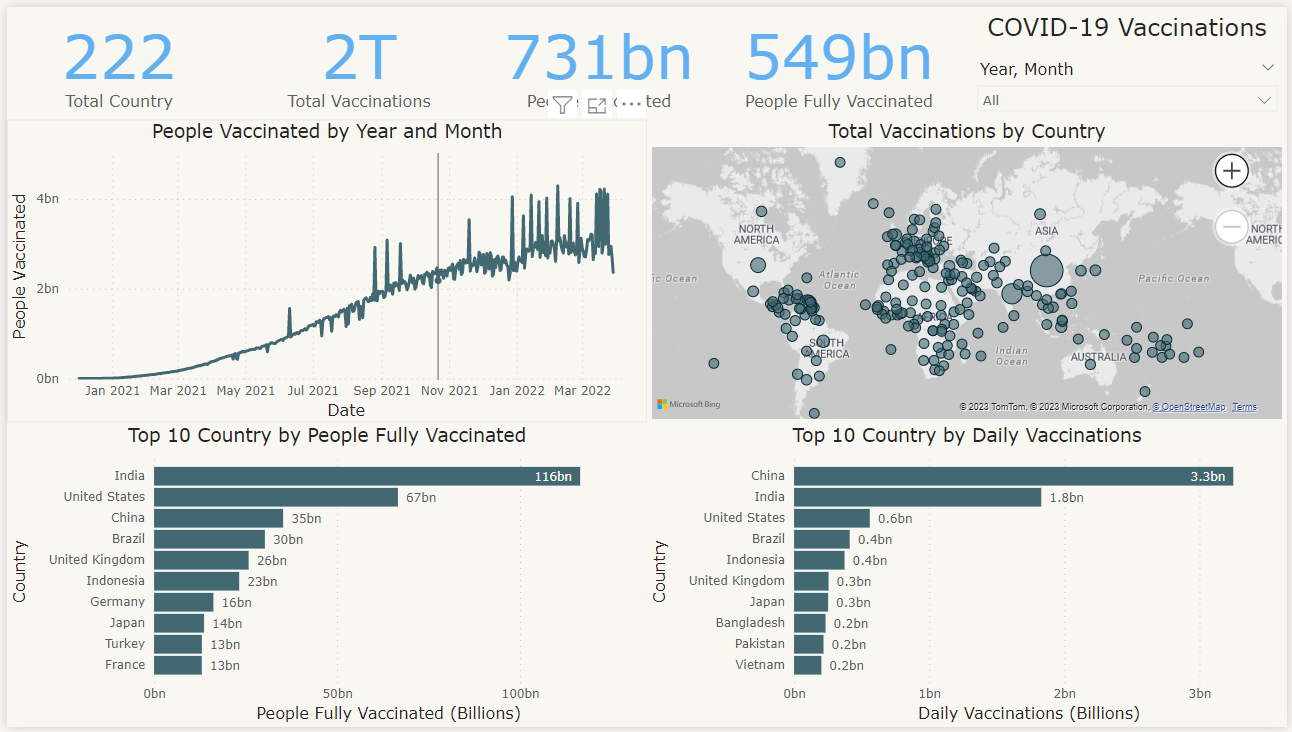

Layout of this report page (visuals, bound fields, positions):
{"tool":"powerbi","page":{"name":"Covid Vaccinations","canvas":[1280,720],"ordinal":0},"visuals":[{"type":"card","fields":{"Values":["Count(Covid Vaccinations.Country)"]},"box":[0,0,224,112],"z":0},{"type":"card","fields":{"Values":["Sum(Covid Vaccinations.People Fully Vaccinated)"]},"box":[720,0,224,112],"z":1000},{"type":"card","fields":{"Values":["Sum(Covid Vaccinations.People Vaccinated)"]},"box":[480,0,224,112],"z":2000},{"type":"card","fields":{"Values":["Sum(Covid Vaccinations.Total Vaccinations)"]},"box":[240,0,224,112],"z":3000},{"type":"slicer","fields":{"Values":["Date Table.Date.Variation.Date Hierarchy.Year","Date Table.Date.Variation.Date Hierarchy.Month"]},"box":[960,48,320,64],"z":4000},{"type":"lineChart","title":"People Vaccinated by Year and Month","fields":{"Category":["Date Table.Date"],"Y":["Sum(Covid Vaccinations.People Vaccinated)"]},"box":[0,112,640,304],"z":5000},{"type":"clusteredBarChart","title":"Top 10 Country by People Fully Vaccinated","fields":{"Category":["Covid Vaccinations.Country"],"Y":["Sum(Covid Vaccinations.People Fully Vaccinated)"]},"box":[0,416,640,304],"z":6000},{"type":"clusteredBarChart","title":"Top 10 Country by Daily Vaccinations","fields":{"Category":["Covid Vaccinations.Country"],"Y":["Sum(Covid Vaccinations.Daily Vaccinations)"]},"box":[640,416,640,304],"z":7000},{"type":"map","fields":{"Category":["Covid Vaccinations.Country"],"Size":["Sum(Covid Vaccinations.Total Vaccinations)"]},"box":[640,112,640,304],"z":8000},{"type":"textbox","box":[960,0,320,48],"z":9000}]}

Visuals, with their boxes in screenshot pixels (x1, y1, x2, y2), scaled from the page's 1280x720 canvas onto the 1292x732 screenshot:
card - Count(Covid Vaccinations.Country): box=[0, 0, 226, 114]
card - Sum(Covid Vaccinations.People Fully Vaccinated): box=[727, 0, 953, 114]
card - Sum(Covid Vaccinations.People Vaccinated): box=[484, 0, 711, 114]
card - Sum(Covid Vaccinations.Total Vaccinations): box=[242, 0, 468, 114]
slicer - Date Table.Date.Variation.Date Hierarchy.Year x Date Table.Date.Variation.Date Hierarchy.Month: box=[969, 49, 1291, 114]
"People Vaccinated by Year and Month" lineChart: box=[0, 114, 646, 423]
"Top 10 Country by People Fully Vaccinated" clusteredBarChart: box=[0, 423, 646, 731]
"Top 10 Country by Daily Vaccinations" clusteredBarChart: box=[646, 423, 1291, 731]
map - Covid Vaccinations.Country x Sum(Covid Vaccinations.Total Vaccinations): box=[646, 114, 1291, 423]
textbox: box=[969, 0, 1291, 49]
